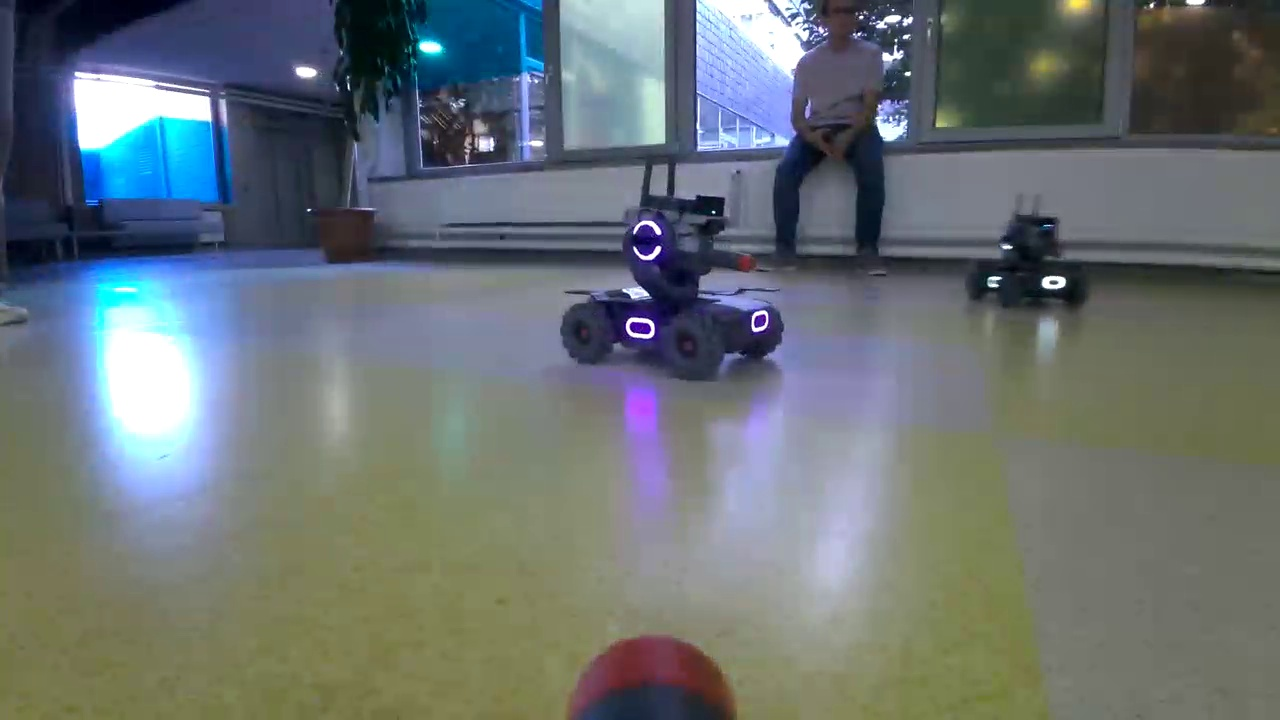robot: (559, 196, 789, 381), (984, 212, 1094, 312)
